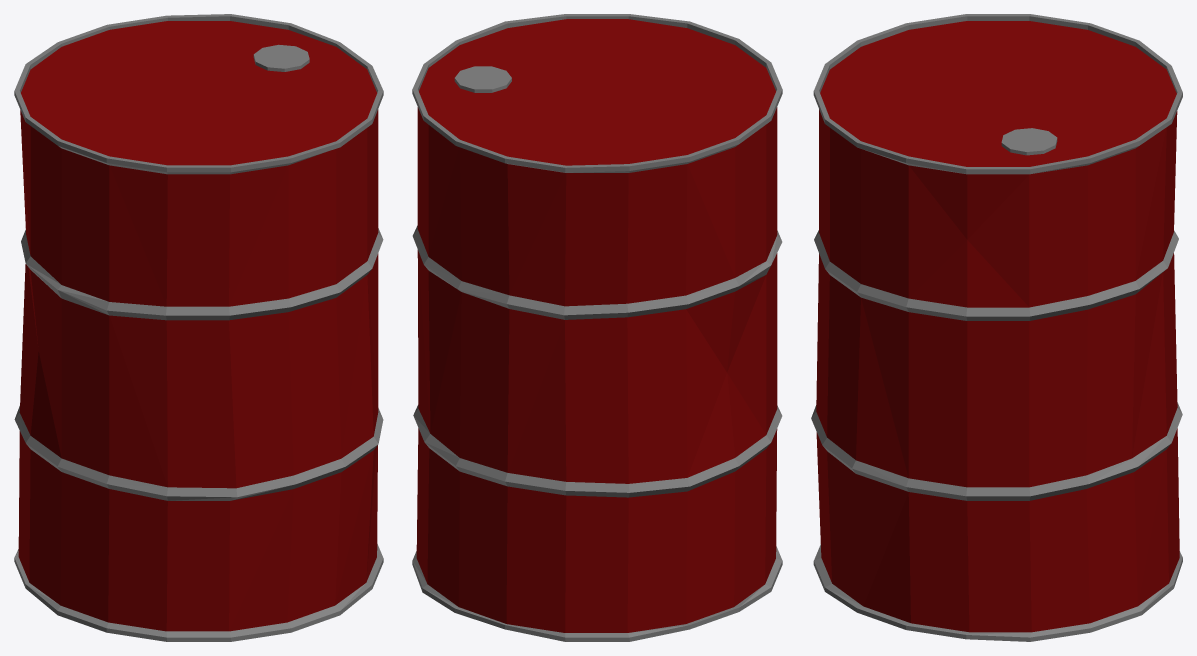
Rendered from Prop_55_Gallon_Drum_01.fbx.
The picture shows the model from 3 angles, left to right: view 1: azimuth 30°, elevation 25°; view 2: azimuth 150°, elevation 25°; view 3: azimuth 270°, elevation 25°; orthographic projection.
Visible parts, largest first — view 1: Prop_55_Gallon_Drum_01; view 2: Prop_55_Gallon_Drum_01; view 3: Prop_55_Gallon_Drum_01.
Part boxes in pixels (x1=…): Prop_55_Gallon_Drum_01: x1=14, y1=14, x2=383, y2=641; Prop_55_Gallon_Drum_01: x1=412, y1=14, x2=782, y2=641; Prop_55_Gallon_Drum_01: x1=811, y1=14, x2=1182, y2=641.
Bounding box in the file's own units: 25.07 × 36.11 × 25.65.
